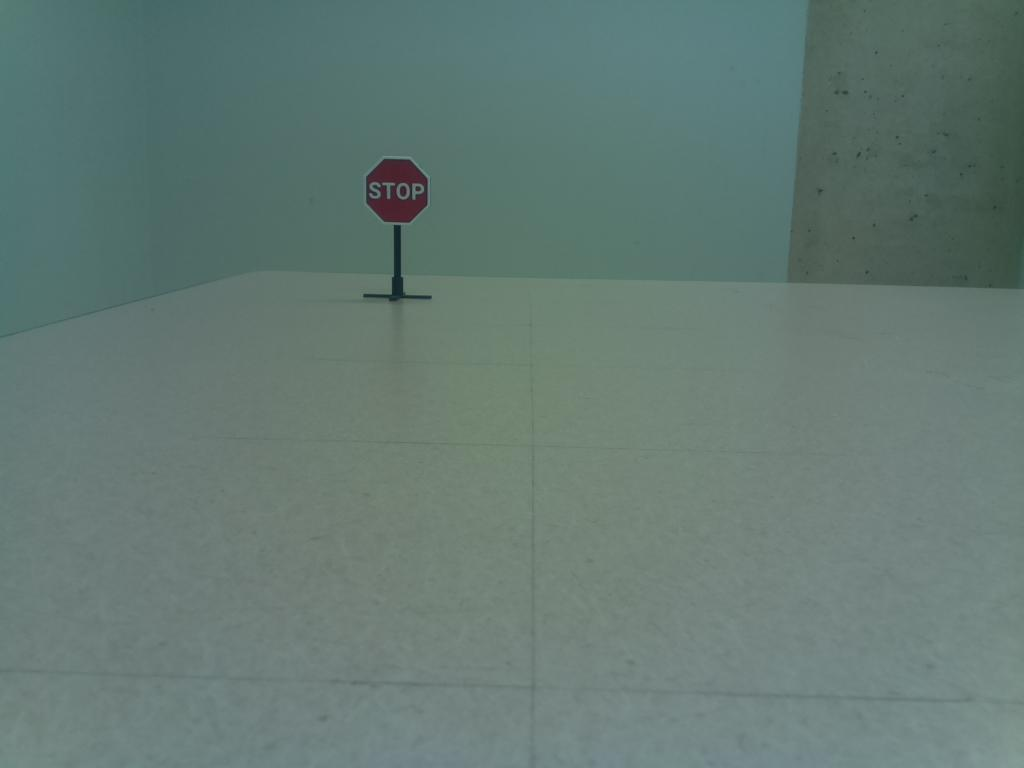sign_stop: (358, 153, 436, 231)
